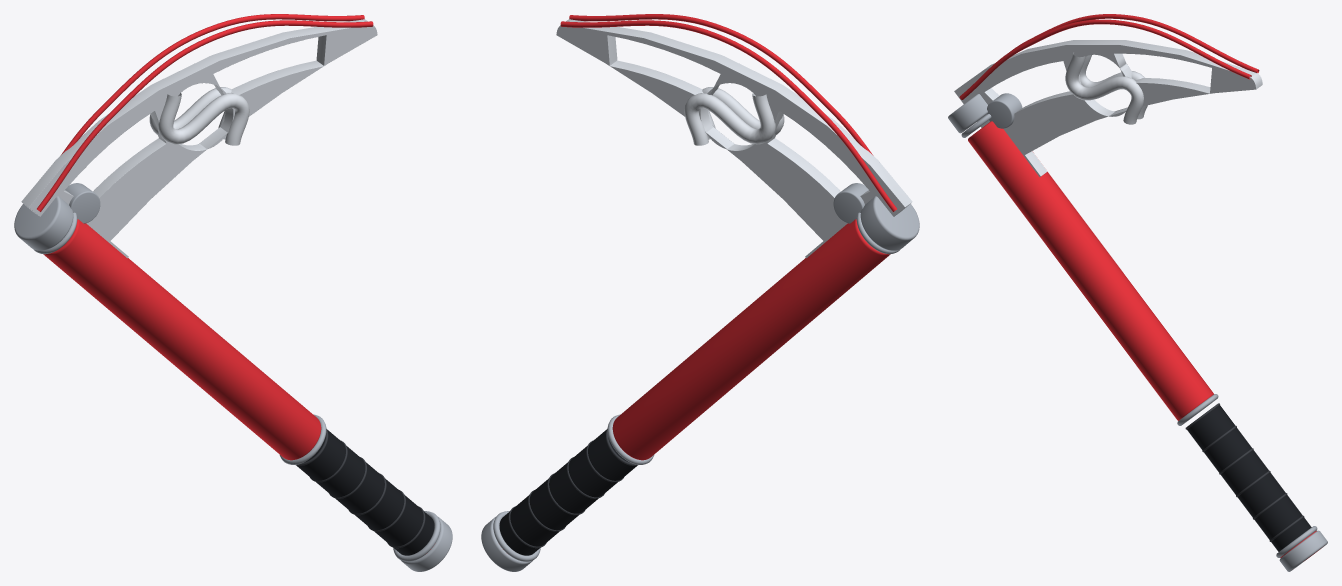
Rendered from sickles.glb.
The picture shows the model from 3 angles, left to right: view 1: azimuth 30°, elevation 25°; view 2: azimuth 150°, elevation 25°; view 3: azimuth 330°, elevation 25°; orthographic projection. The views are drawn at different scales.
Parts seen in each view (by area): view 1: TKA_Sickles_UpperShell_Recolor, TKA_Sickles_Blade, TKA_Sickles_Grip, TKA_Sickles_YinYangBridge_Front, TKA_Sickles_BladeSpine_Recolor_Front, TKA_Sickles_BladeCollar, TKA_Sickles_BladeSpine_Recolor_Back, TKA_Sickles_ButtCap, TKA_Sickles_BladePivotBolt, TKA_Sickles_YinYangBridge_Back; view 2: TKA_Sickles_UpperShell_Recolor, TKA_Sickles_Blade, TKA_Sickles_Grip, TKA_Sickles_YinYangBridge_Back, TKA_Sickles_BladeSpine_Recolor_Back, TKA_Sickles_BladeCollar, TKA_Sickles_BladeSpine_Recolor_Front, TKA_Sickles_ButtCap, TKA_Sickles_BladePivotBolt, TKA_Sickles_YinYangBridge_Front; view 3: TKA_Sickles_UpperShell_Recolor, TKA_Sickles_Blade, TKA_Sickles_Grip, TKA_Sickles_YinYangBridge_Front, TKA_Sickles_BladeSpine_Recolor_Front, TKA_Sickles_BladeSpine_Recolor_Back, TKA_Sickles_BladeCollar, TKA_Sickles_ButtCap, TKA_Sickles_BladePivotBolt, TKA_Sickles_YinYangBridge_Back.
Part boxes in pixels (x1=…): TKA_Sickles_UpperShell_Recolor: x1=43, y1=219, x2=321, y2=460; TKA_Sickles_Blade: x1=21, y1=19, x2=377, y2=258; TKA_Sickles_Grip: x1=296, y1=429, x2=434, y2=555; TKA_Sickles_YinYangBridge_Front: x1=158, y1=92, x2=249, y2=145; TKA_Sickles_BladeSpine_Recolor_Front: x1=37, y1=20, x2=373, y2=211; TKA_Sickles_BladeCollar: x1=14, y1=196, x2=73, y2=250; TKA_Sickles_BladeSpine_Recolor_Back: x1=60, y1=14, x2=364, y2=155; TKA_Sickles_ButtCap: x1=401, y1=516, x2=452, y2=571; TKA_Sickles_BladePivotBolt: x1=65, y1=183, x2=100, y2=223; TKA_Sickles_YinYangBridge_Back: x1=149, y1=87, x2=231, y2=139; TKA_Sickles_UpperShell_Recolor: x1=612, y1=219, x2=890, y2=460; TKA_Sickles_Blade: x1=556, y1=19, x2=912, y2=258; TKA_Sickles_Grip: x1=499, y1=429, x2=637, y2=555; TKA_Sickles_YinYangBridge_Back: x1=684, y1=92, x2=775, y2=145; TKA_Sickles_BladeSpine_Recolor_Back: x1=560, y1=20, x2=896, y2=211; TKA_Sickles_BladeCollar: x1=860, y1=196, x2=919, y2=250; TKA_Sickles_BladeSpine_Recolor_Front: x1=569, y1=14, x2=873, y2=155; TKA_Sickles_ButtCap: x1=481, y1=516, x2=532, y2=571; TKA_Sickles_BladePivotBolt: x1=833, y1=183, x2=868, y2=223; TKA_Sickles_YinYangBridge_Front: x1=702, y1=87, x2=784, y2=139; TKA_Sickles_UpperShell_Recolor: x1=968, y1=121, x2=1213, y2=420; TKA_Sickles_Blade: x1=954, y1=40, x2=1262, y2=176; TKA_Sickles_Grip: x1=1187, y1=405, x2=1311, y2=551; TKA_Sickles_YinYangBridge_Front: x1=1065, y1=52, x2=1143, y2=124; TKA_Sickles_BladeSpine_Recolor_Front: x1=959, y1=19, x2=1251, y2=99; TKA_Sickles_BladeSpine_Recolor_Back: x1=1010, y1=14, x2=1259, y2=72; TKA_Sickles_BladeCollar: x1=948, y1=94, x2=987, y2=133; TKA_Sickles_ButtCap: x1=1279, y1=530, x2=1327, y2=571; TKA_Sickles_BladePivotBolt: x1=987, y1=93, x2=1022, y2=128; TKA_Sickles_YinYangBridge_Back: x1=1079, y1=55, x2=1147, y2=119.
Size of the model in its own units: 0.2596 by 0.3414 by 0.0304.
